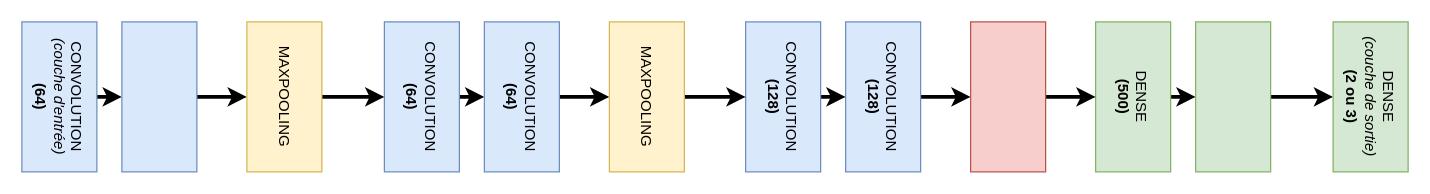
The diagram is 1430 pixels wide and 194 high, and some of its shapes have lost their labels. The centre of each missing label's shape, as x and y in pixels:
"CONVOLUTION (32)" belongs at (159,96).
"DENSE (50)" belongs at (1232,96).
"FLATTEN" belongs at (1007,96).
